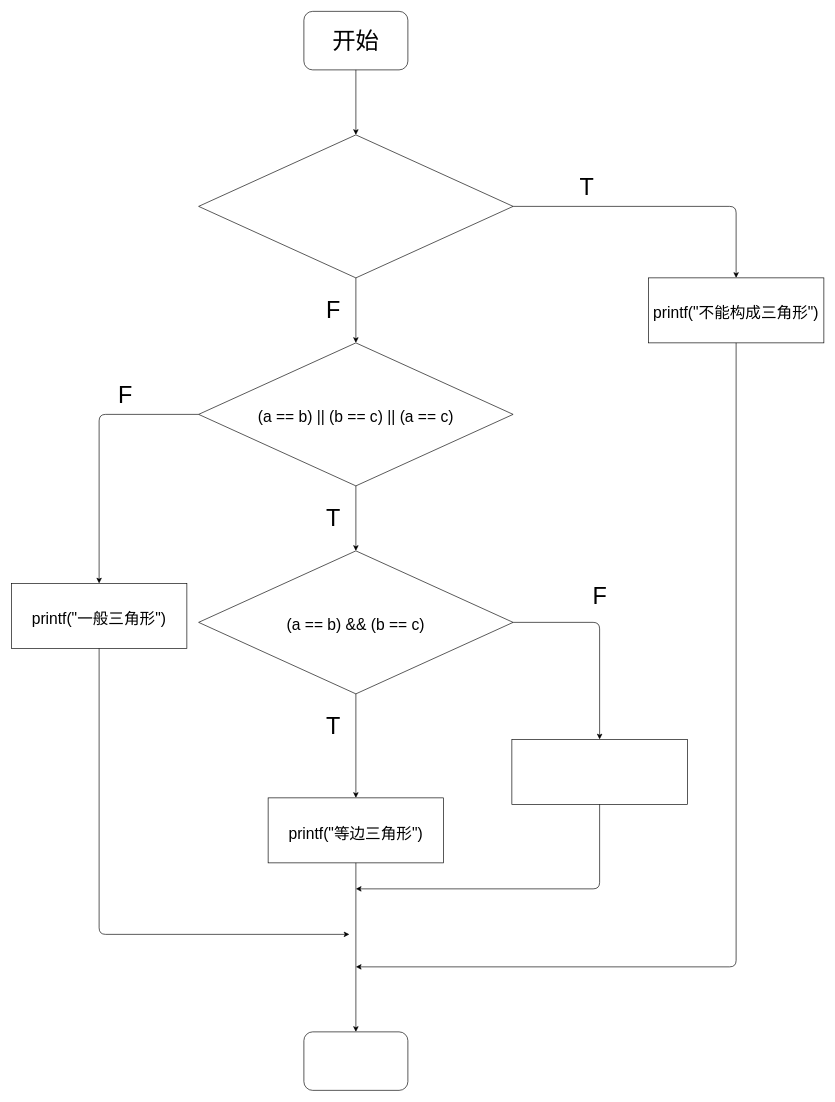
This 835x1102 diagram has some shape labels left out. The centre of each missing label's shape, as x and y in pixels:
(a + b <= c) || (a + c <= b) || (b + c <= a): (355,206)
printf("等腰三角形"): (599,771)
结束: (355,1060)
